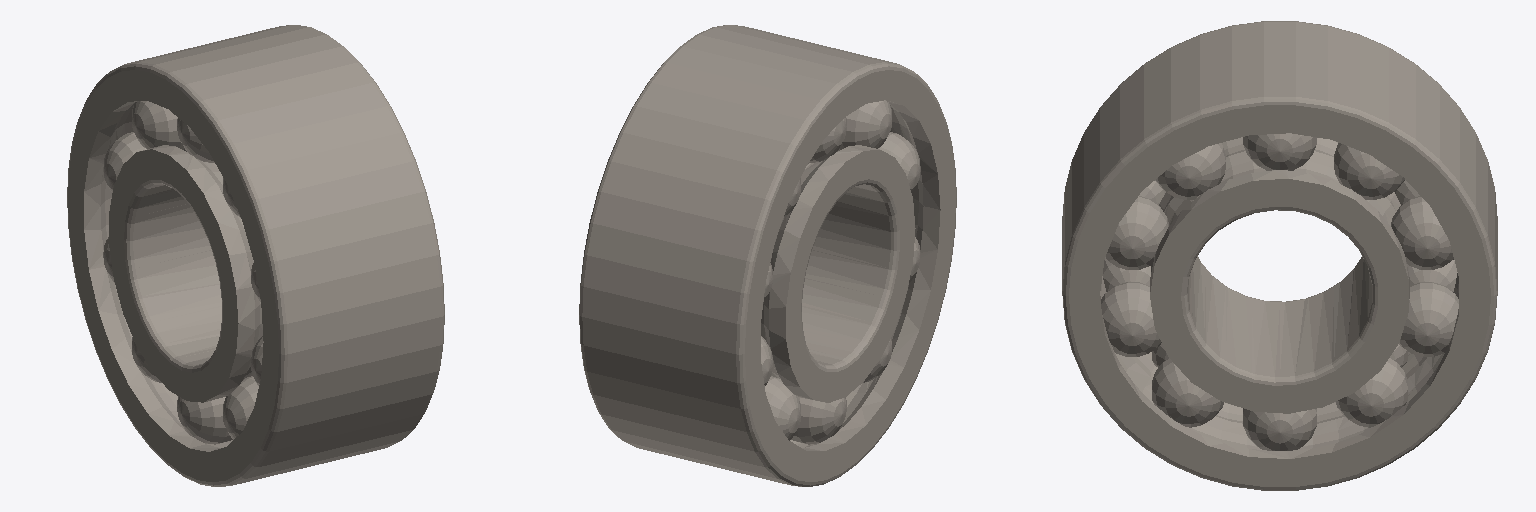
3 views of the same model, side by side, from view 1: azimuth 30°, elevation 25°; view 2: azimuth 150°, elevation 25°; view 3: azimuth 270°, elevation 25° (orthographic).
Visible parts, largest first — view 1: gb__t_296_1994_____________________________0000a______30___3203_; view 2: gb__t_296_1994_____________________________0000a______30___3203_; view 3: gb__t_296_1994_____________________________0000a______30___3203_.
Part boxes in pixels (bbox=[...]): gb__t_296_1994_____________________________0000a______30___3203_: bbox=[67, 25, 444, 486]; gb__t_296_1994_____________________________0000a______30___3203_: bbox=[579, 25, 956, 486]; gb__t_296_1994_____________________________0000a______30___3203_: bbox=[1062, 21, 1497, 490].
Size of the model in its own units: 17.5 by 39.89 by 40.